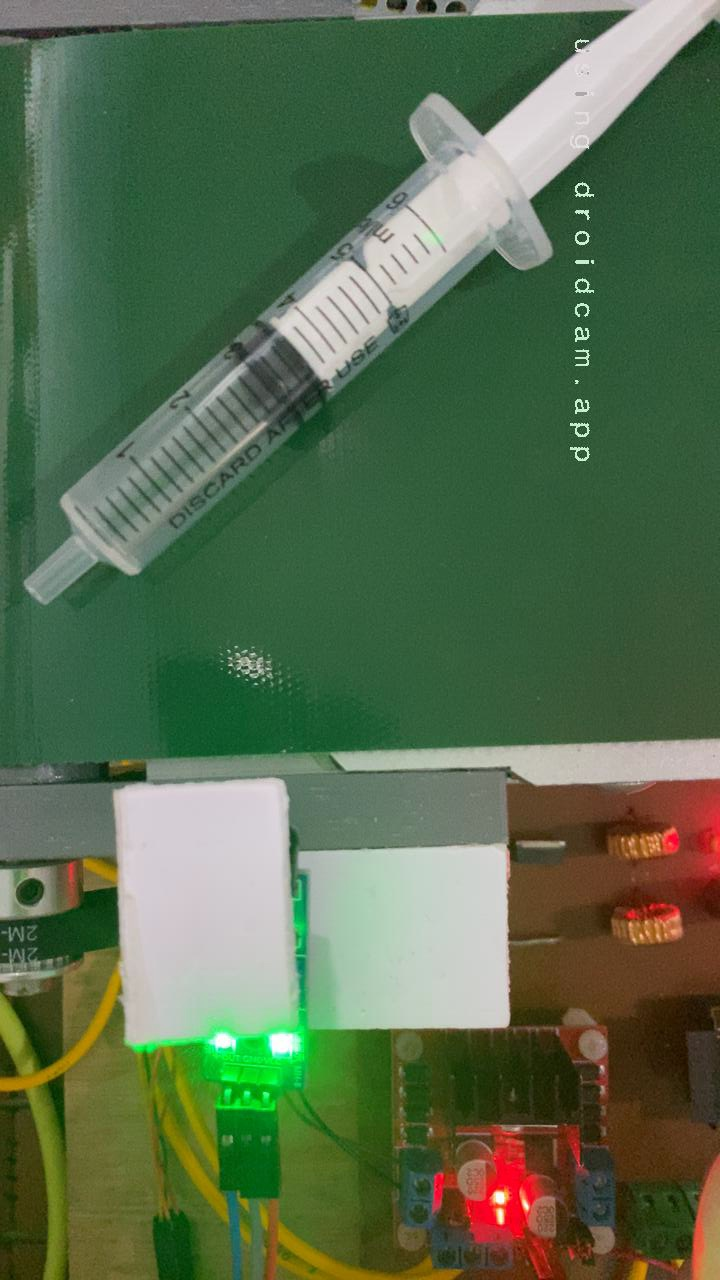syringe: (19, 18, 720, 610)
